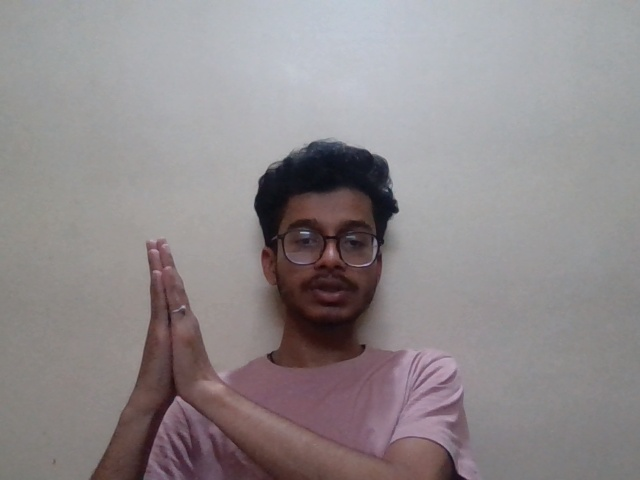please: (121, 237, 230, 427)
